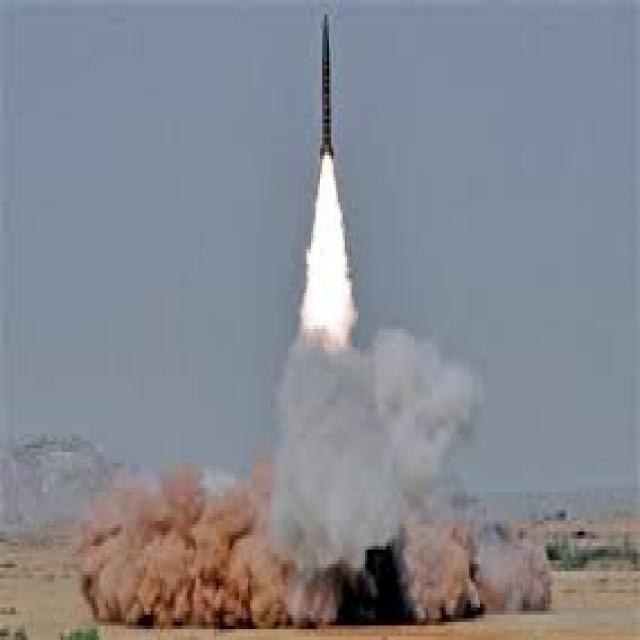missile: (318, 9, 336, 165)
